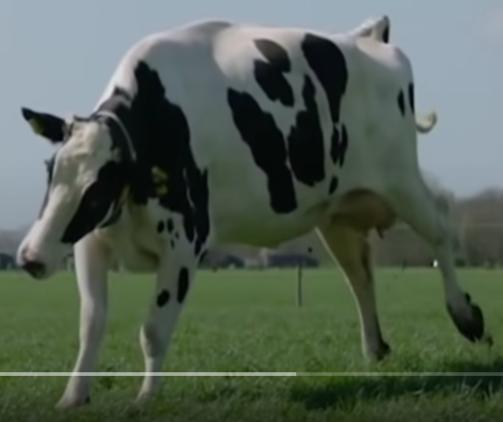cow: (15, 23, 484, 409)
